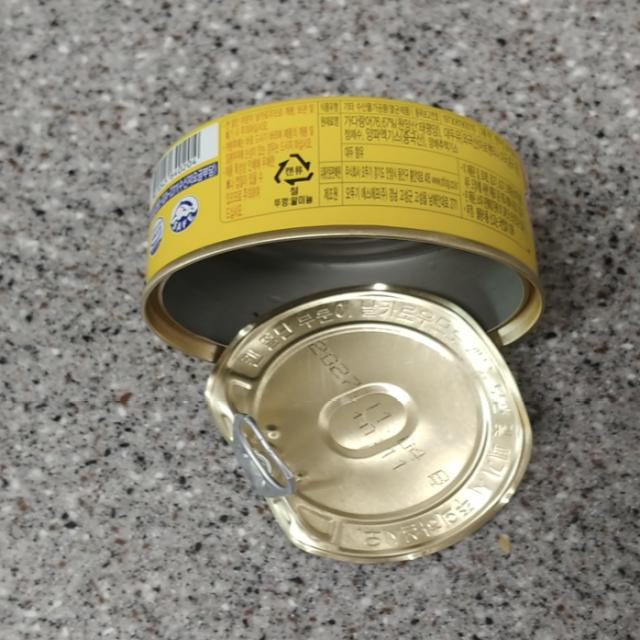recyclable: (122, 85, 564, 361), (202, 274, 540, 580)
